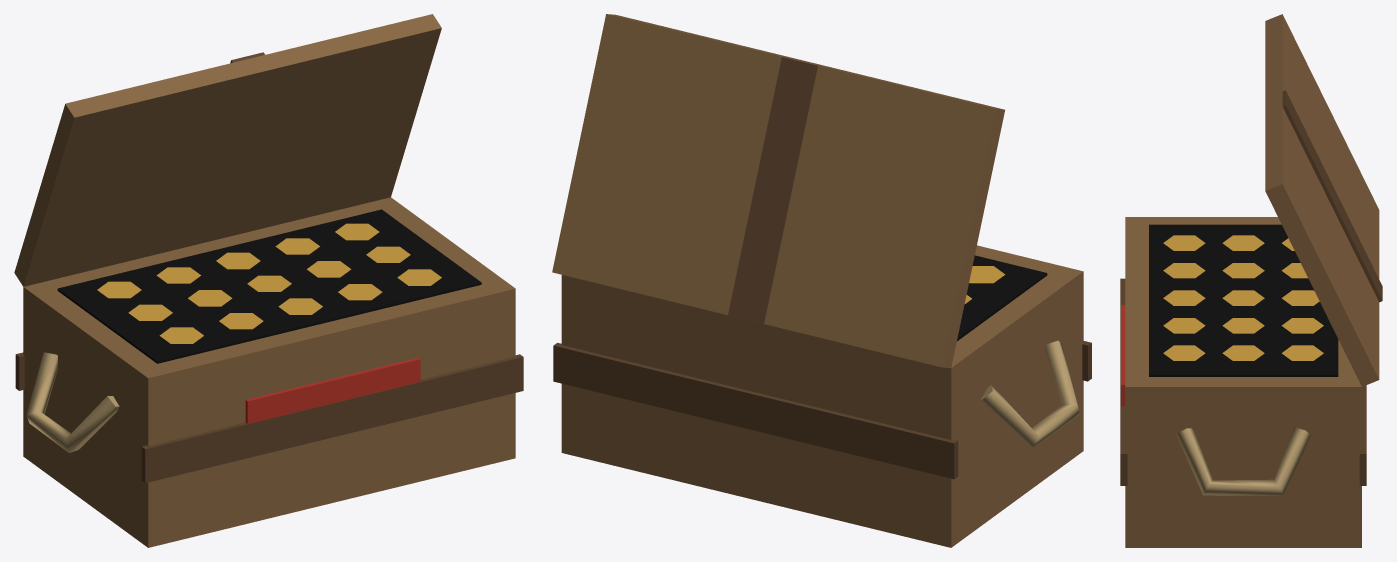
Rendered from ammo_box.glb.
The picture shows the model from 3 angles, left to right: view 1: azimuth 30°, elevation 25°; view 2: azimuth 150°, elevation 25°; view 3: azimuth 270°, elevation 25°; orthographic projection. The views are drawn at different scales.
Visible parts, largest first — view 1: Body, Lid; view 2: Lid, Body; view 3: Body, Lid.
Boxes of the visible parts, x1=… form: Body: x1=15, y1=197, x2=523, y2=547; Lid: x1=14, y1=14, x2=441, y2=286; Lid: x1=552, y1=14, x2=1004, y2=367; Body: x1=553, y1=245, x2=1091, y2=547; Body: x1=1120, y1=217, x2=1366, y2=547; Lid: x1=1265, y1=14, x2=1382, y2=386.
Bounding box in the file's own units: 0.4144 × 0.3403 × 0.2213.
